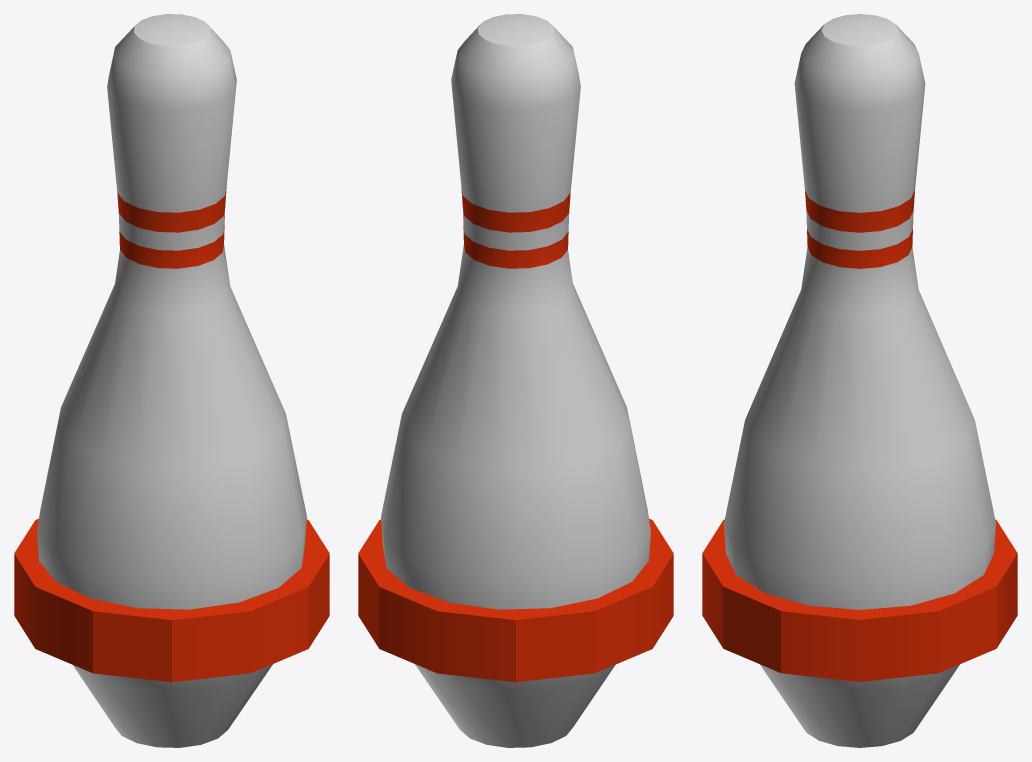
File: five-pin.glb
The picture shows the model from 3 angles, left to right: view 1: azimuth 30°, elevation 25°; view 2: azimuth 150°, elevation 25°; view 3: azimuth 270°, elevation 25°; orthographic projection.
Parts seen in each view (by area): view 1: Five-pin; view 2: Five-pin; view 3: Five-pin.
Part boxes in pixels (x1=…): Five-pin: x1=14, y1=14, x2=329, y2=747; Five-pin: x1=358, y1=14, x2=673, y2=747; Five-pin: x1=702, y1=14, x2=1017, y2=747.
Bounding box in the file's own units: 0.1308 × 0.3201 × 0.1308.
